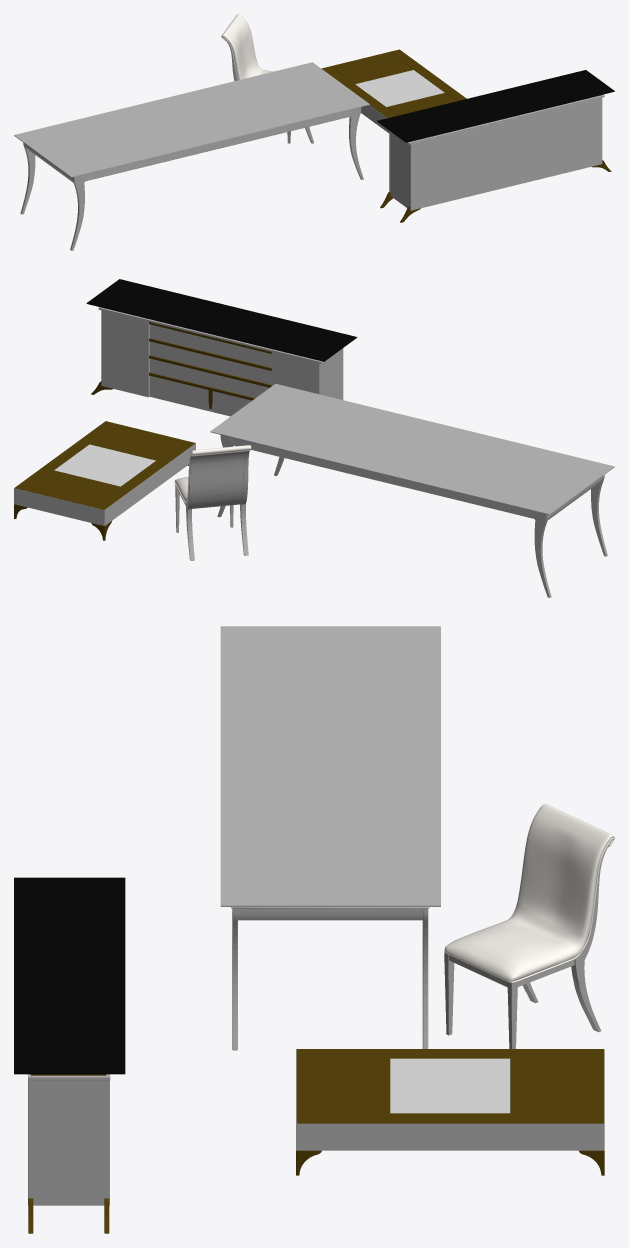
Rendered from set1.fbx.
The picture shows the model from 3 angles, top to bottom: view 1: azimuth 30°, elevation 25°; view 2: azimuth 150°, elevation 25°; view 3: azimuth 270°, elevation 25°; orthographic projection. The views are drawn at different scales.
Visible parts, largest first — view 1: Rectangle25, ChamferBox02, Rectangle01, Rectangle30, Plane01, ChamferBox12, Plane06, ChamferBox20, ChamferBox18, ChamferBox09, ChamferBox19, ChamferBox03 (+2 smaller); view 2: Rectangle25, Rectangle01, ChamferBox05, Rectangle27, Box02, Rectangle38, Plane01, ChamferBox20, ChamferBox09, ChamferBox07, ChamferBox06, ChamferBox08 (+13 smaller); view 3: Rectangle25, Rectangle01, Plane06, ChamferBox13, Box02, Plane01, ChamferBox20, ChamferBox09, ChamferBox18, ChamferBox19, Rectangle15, Rectangle34 (+2 smaller).
Part boxes in pixels (bbox=[...]): Rectangle25: bbox=[14, 62, 369, 177]; ChamferBox02: bbox=[412, 98, 600, 210]; Rectangle01: bbox=[377, 70, 614, 142]; Rectangle30: bbox=[70, 107, 363, 250]; Plane01: bbox=[355, 70, 444, 106]; ChamferBox12: bbox=[390, 132, 412, 210]; Plane06: bbox=[221, 14, 273, 80]; ChamferBox20: bbox=[331, 52, 413, 84]; ChamferBox18: bbox=[390, 49, 466, 101]; ChamferBox09: bbox=[387, 93, 456, 115]; ChamferBox19: bbox=[321, 66, 397, 117]; ChamferBox03: bbox=[406, 94, 604, 144]; Rectangle25: bbox=[210, 383, 614, 514]; Rectangle01: bbox=[86, 279, 357, 361]; ChamferBox05: bbox=[101, 310, 149, 397]; Rectangle27: bbox=[217, 435, 551, 597]; Box02: bbox=[14, 443, 195, 525]; Rectangle38: bbox=[192, 451, 244, 508]; Plane01: bbox=[54, 444, 155, 486]; ChamferBox20: bbox=[26, 470, 120, 506]; ChamferBox09: bbox=[90, 424, 183, 460]; ChamferBox07: bbox=[150, 341, 271, 384]; ChamferBox06: bbox=[150, 324, 271, 367]; ChamferBox08: bbox=[150, 358, 269, 398]; Rectangle25: bbox=[220, 626, 440, 906]; Rectangle01: bbox=[14, 877, 125, 1074]; Plane06: bbox=[444, 804, 614, 981]; ChamferBox13: bbox=[28, 1080, 105, 1205]; Box02: bbox=[296, 1049, 604, 1150]; Plane01: bbox=[390, 1058, 510, 1113]; ChamferBox20: bbox=[510, 1058, 604, 1113]; ChamferBox09: bbox=[296, 1058, 390, 1113]; ChamferBox18: bbox=[296, 1113, 604, 1123]; ChamferBox19: bbox=[296, 1049, 604, 1058]; Rectangle15: bbox=[237, 908, 422, 920]; Rectangle34: bbox=[571, 839, 612, 1032].
Size of the model in its own units: 493 by 96.14 by 273.
